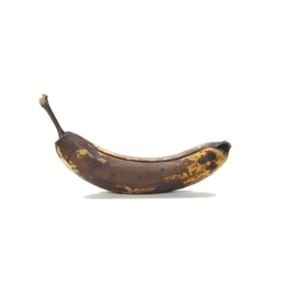banana_brain food: (59, 128, 237, 194)
